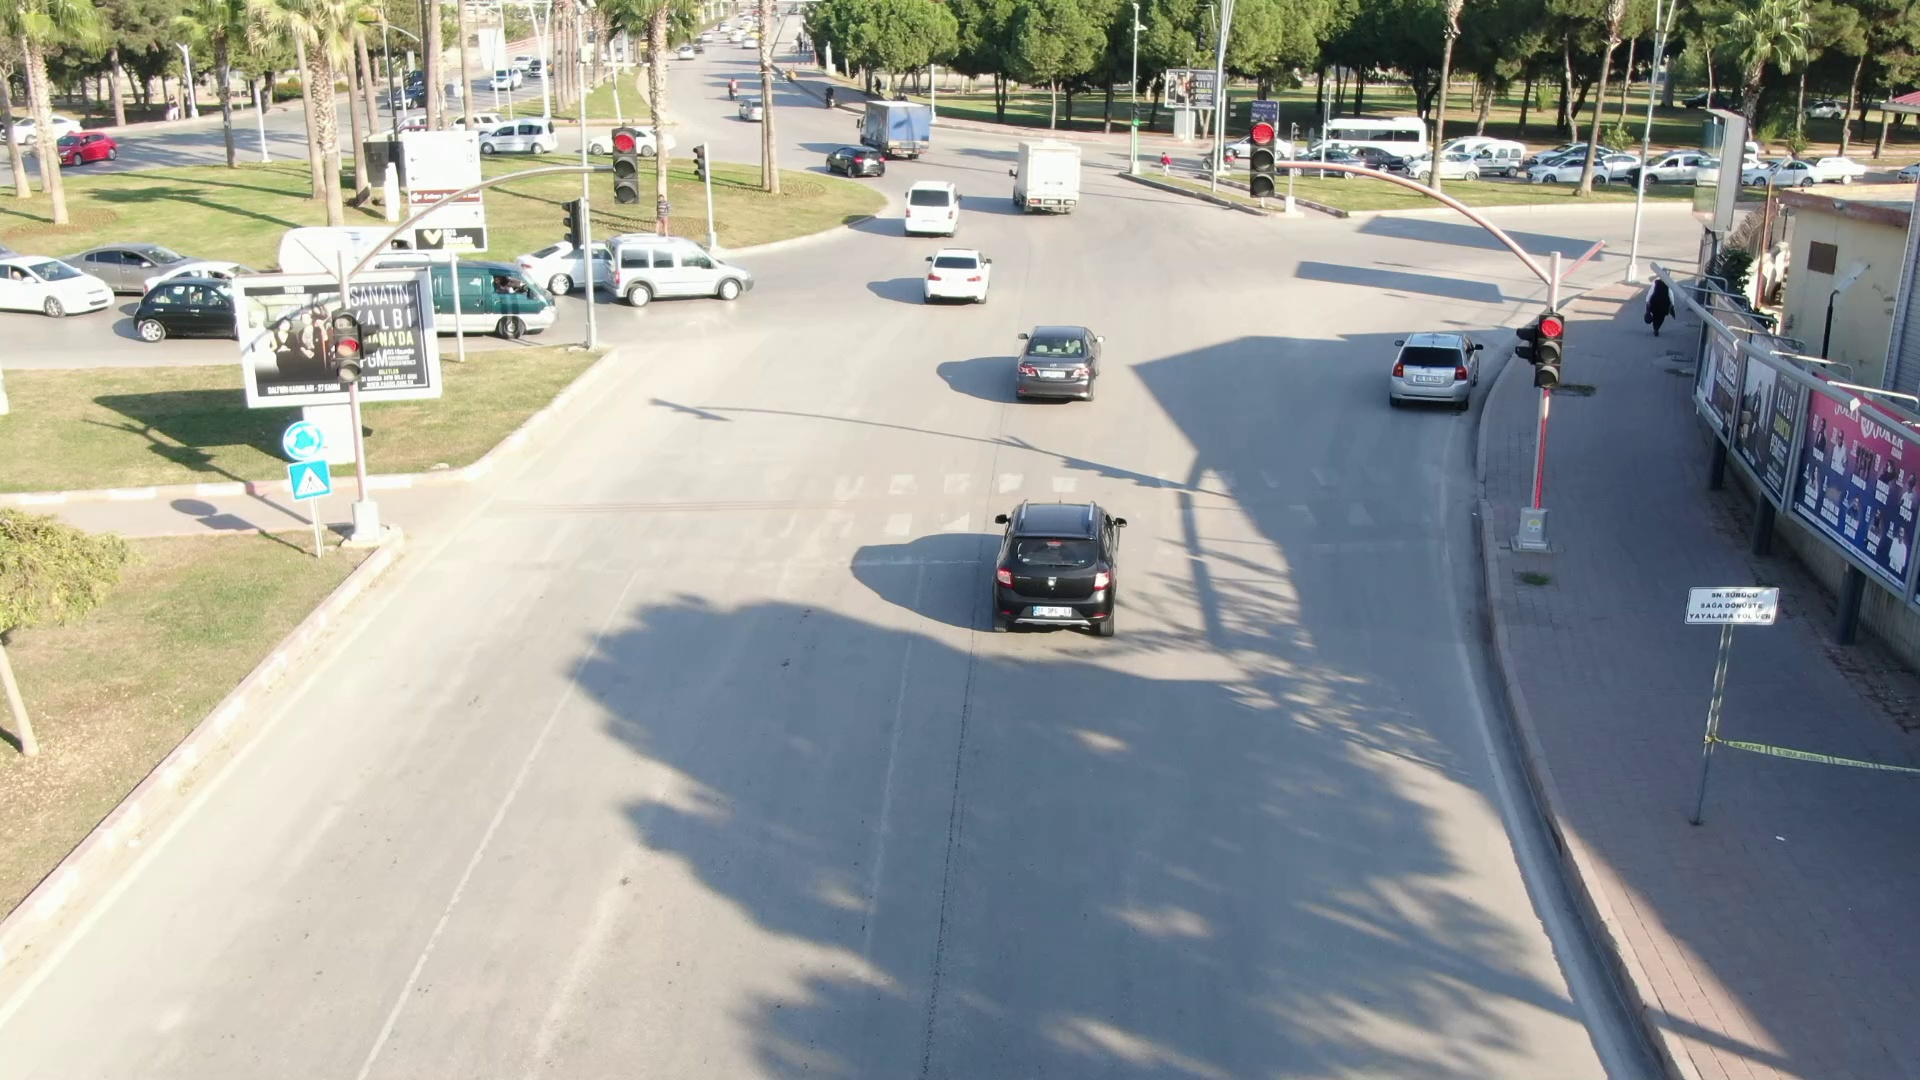car: (972, 489, 1162, 654), (598, 231, 769, 312), (1372, 320, 1493, 427), (999, 311, 1114, 404), (1003, 132, 1107, 221), (847, 94, 940, 160), (912, 242, 1000, 310), (898, 176, 966, 240), (823, 138, 891, 180)
person: (1633, 266, 1685, 343)
